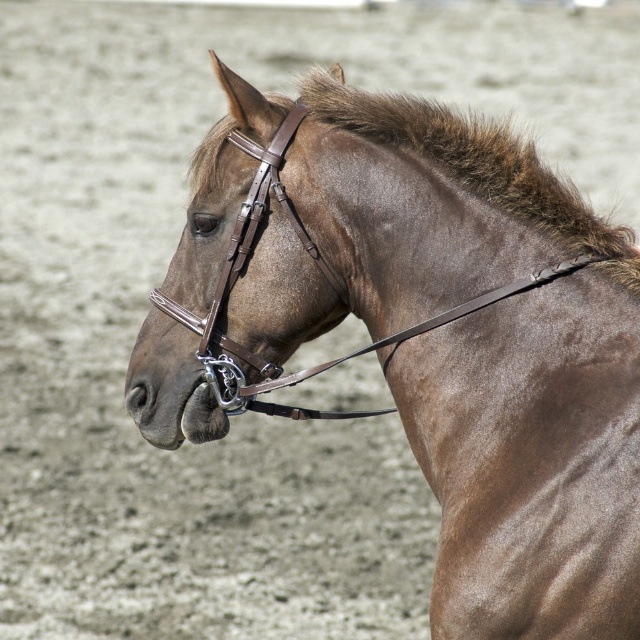Horse: (122, 51, 639, 640)
